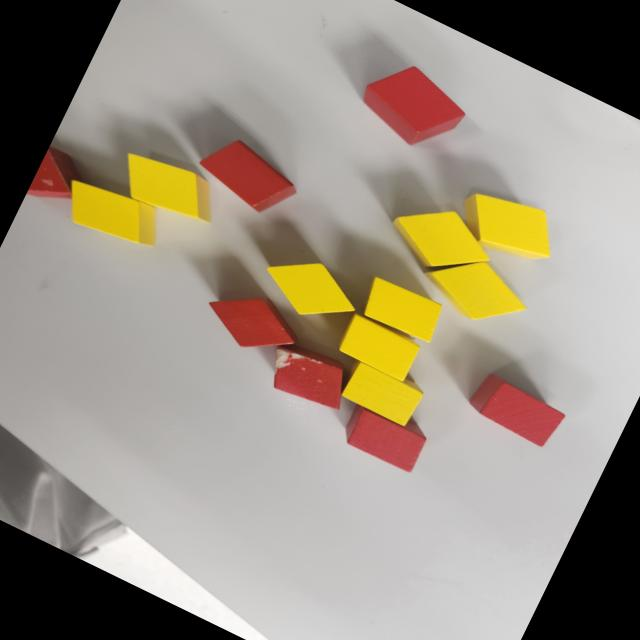broken: (261, 334, 358, 418), (26, 142, 91, 213)
red: (348, 48, 477, 162), (189, 127, 309, 226), (194, 274, 308, 368), (462, 368, 568, 451), (338, 401, 430, 475)
yellow: (380, 188, 506, 295), (412, 238, 536, 340), (447, 178, 565, 278), (109, 141, 229, 236), (52, 167, 172, 259), (255, 243, 366, 336), (358, 274, 447, 346), (335, 312, 422, 382), (340, 359, 424, 429)
